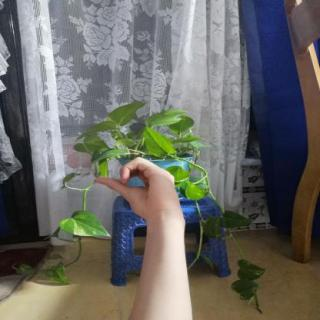WAW: (85, 149, 193, 226)
